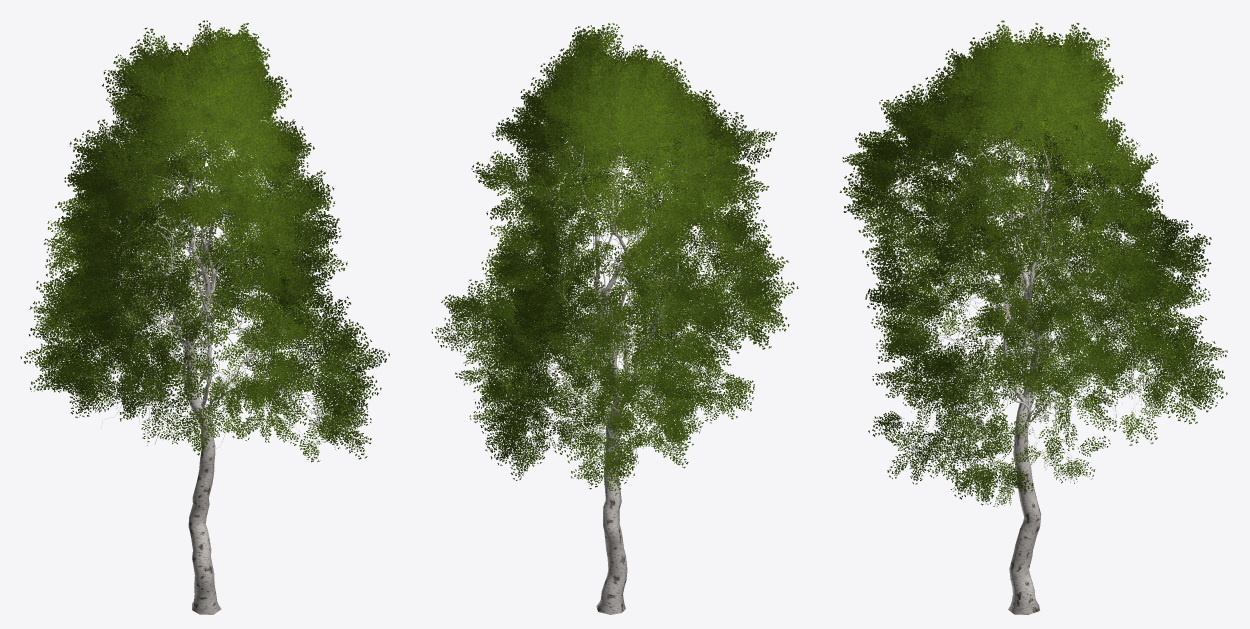
File: birch_tree_0.gltf
3 renders of one model, left to right at view 1: azimuth 30°, elevation 25°; view 2: azimuth 150°, elevation 25°; view 3: azimuth 270°, elevation 25°, orthographic. The views are drawn at different scales.
Parts seen in each view (by area): view 1: birch_tree_0; view 2: birch_tree_0; view 3: birch_tree_0.
Boxes of the visible parts, bbox=[...] form: birch_tree_0: bbox=[20, 20, 389, 614]; birch_tree_0: bbox=[431, 23, 798, 614]; birch_tree_0: bbox=[839, 20, 1227, 614].
Size of the model in its own units: 8.08 by 14.69 by 8.93.
2 materials, 2 textured.
